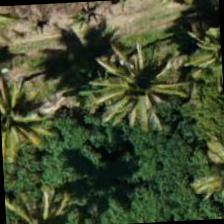Kelapa_Sawit: (80, 38, 175, 132), (0, 64, 73, 159), (8, 175, 102, 223)
